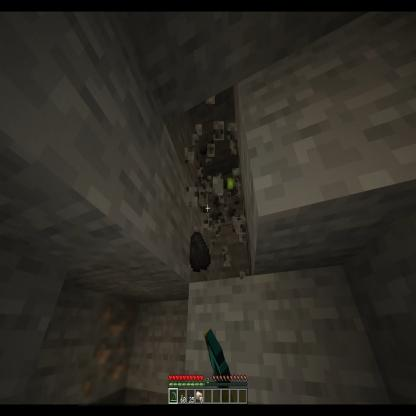coal ore: (204, 173, 245, 225)
iron ore: (78, 297, 140, 406)
